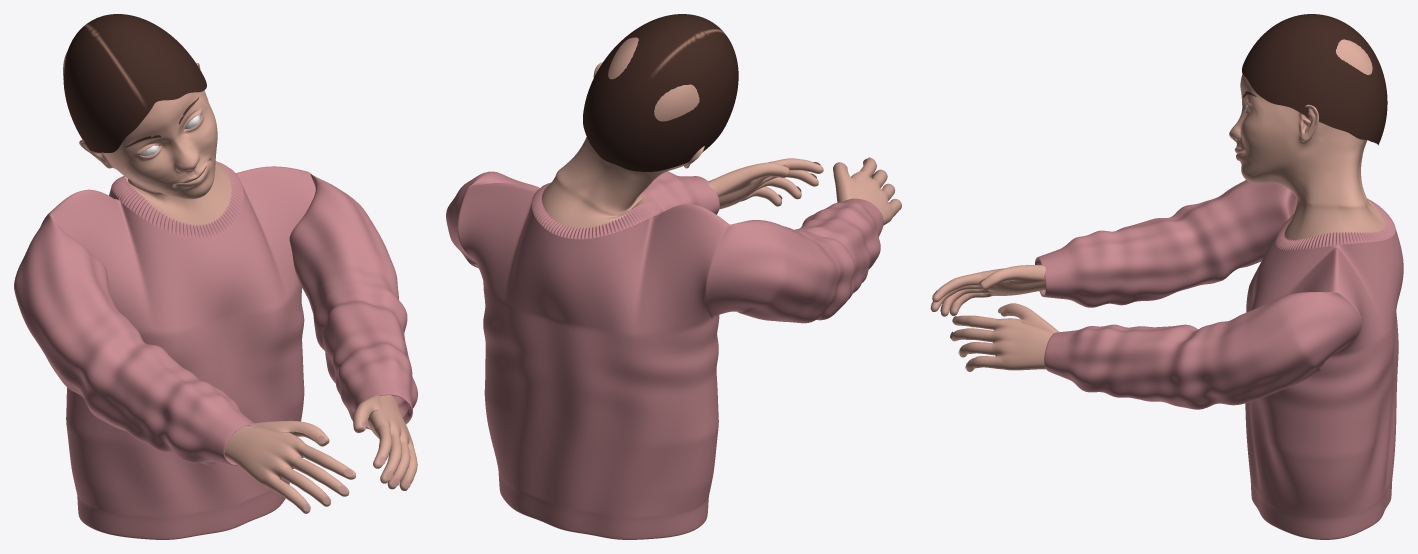
File: character.glb
3 views of the same model, side by side, from view 1: azimuth 30°, elevation 25°; view 2: azimuth 150°, elevation 25°; view 3: azimuth 270°, elevation 25° (orthographic). The views are drawn at different scales.
Visible parts, largest first — view 1: 10 • Sweater | joined shoulder and forward sleeves, 20 • Scalp | shaped hairline and part, 01 • Facial sculpt and neckline, 12 • Reaching hand.R, 12 • Reaching hand.L, 11 • Crew neck | 104 knitted ribs; view 2: 10 • Sweater | joined shoulder and forward sleeves, 20 • Scalp | shaped hairline and part, 01 • Facial sculpt and neckline, 12 • Reaching hand.L, 12 • Reaching hand.R, 11 • Crew neck | 104 knitted ribs; view 3: 10 • Sweater | joined shoulder and forward sleeves, 01 • Facial sculpt and neckline, 20 • Scalp | shaped hairline and part, 12 • Reaching hand.L, 12 • Reaching hand.R, 11 • Crew neck | 104 knitted ribs.
Part boxes in pixels (x1=…): 10 • Sweater | joined shoulder and forward sleeves: x1=14, y1=166, x2=417, y2=539; 20 • Scalp | shaped hairline and part: x1=63, y1=14, x2=206, y2=152; 01 • Facial sculpt and neckline: x1=63, y1=51, x2=231, y2=226; 12 • Reaching hand.R: x1=224, y1=420, x2=355, y2=513; 12 • Reaching hand.L: x1=353, y1=395, x2=417, y2=490; 11 • Crew neck | 104 knitted ribs: x1=111, y1=161, x2=243, y2=238; 10 • Sweater | joined shoulder and forward sleeves: x1=446, y1=171, x2=883, y2=539; 20 • Scalp | shaped hairline and part: x1=583, y1=14, x2=738, y2=171; 01 • Facial sculpt and neckline: x1=541, y1=37, x2=704, y2=228; 12 • Reaching hand.L: x1=708, y1=158, x2=823, y2=209; 12 • Reaching hand.R: x1=833, y1=158, x2=901, y2=225; 11 • Crew neck | 104 knitted ribs: x1=531, y1=182, x2=662, y2=239; 10 • Sweater | joined shoulder and forward sleeves: x1=1035, y1=180, x2=1403, y2=539; 01 • Facial sculpt and neckline: x1=1229, y1=39, x2=1385, y2=240; 20 • Scalp | shaped hairline and part: x1=1242, y1=14, x2=1387, y2=145; 12 • Reaching hand.L: x1=951, y1=303, x2=1059, y2=371; 12 • Reaching hand.R: x1=930, y1=265, x2=1045, y2=316; 11 • Crew neck | 104 knitted ribs: x1=1275, y1=198, x2=1395, y2=250.
Bounding box in the file's own units: 0.494 × 0.6691 × 0.6398.
